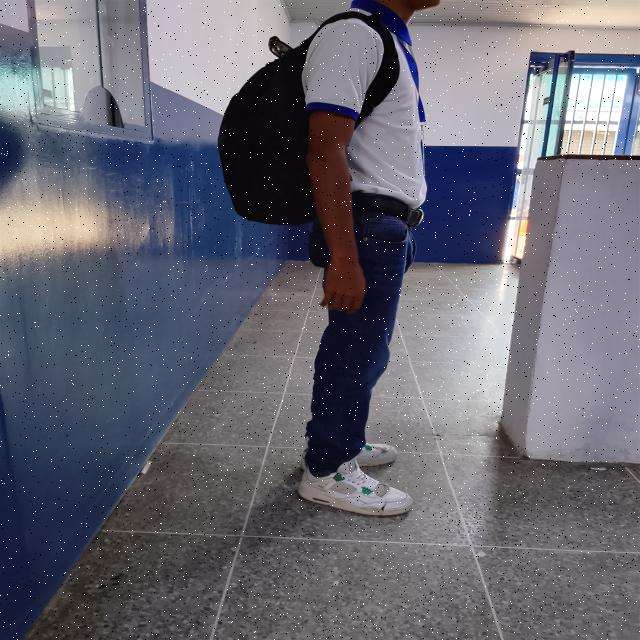pantalon_oscuro: (303, 211, 415, 478)
uniforme_superior: (301, 0, 427, 210)
